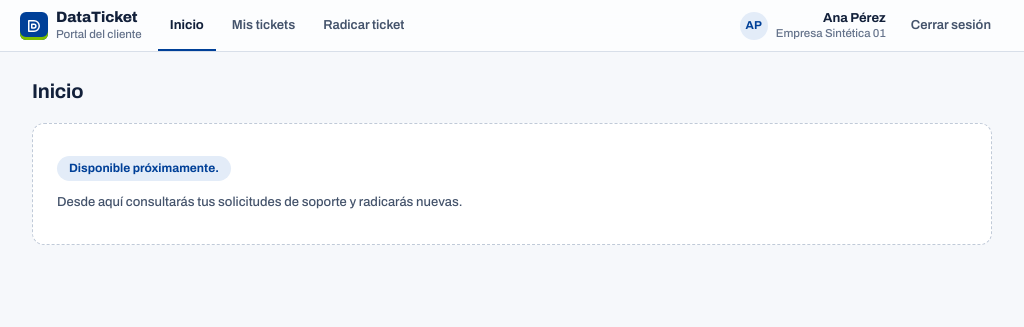
Test case: Shell: errores y rutas públicas › si el cierre de sesión falla con 5xx conserva la sesión y avisa
Click the button "Cerrar sesión": [951, 26] box [898,10,1004,40]
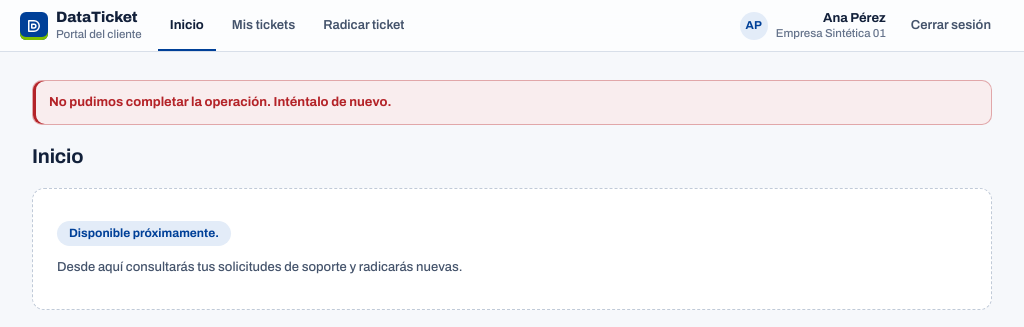
Expected: the message reads "No pudimos completar la operación. Inténtalo de nuevo.", [49,95,392,109]
